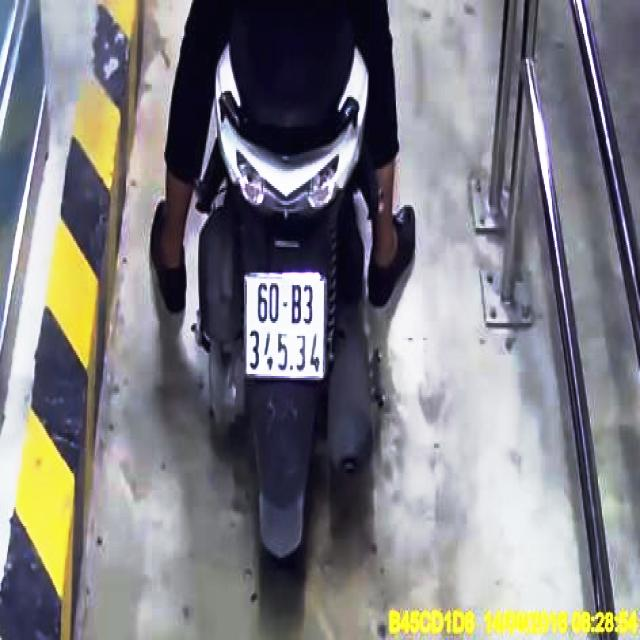license_plate: (246, 277, 326, 380)
